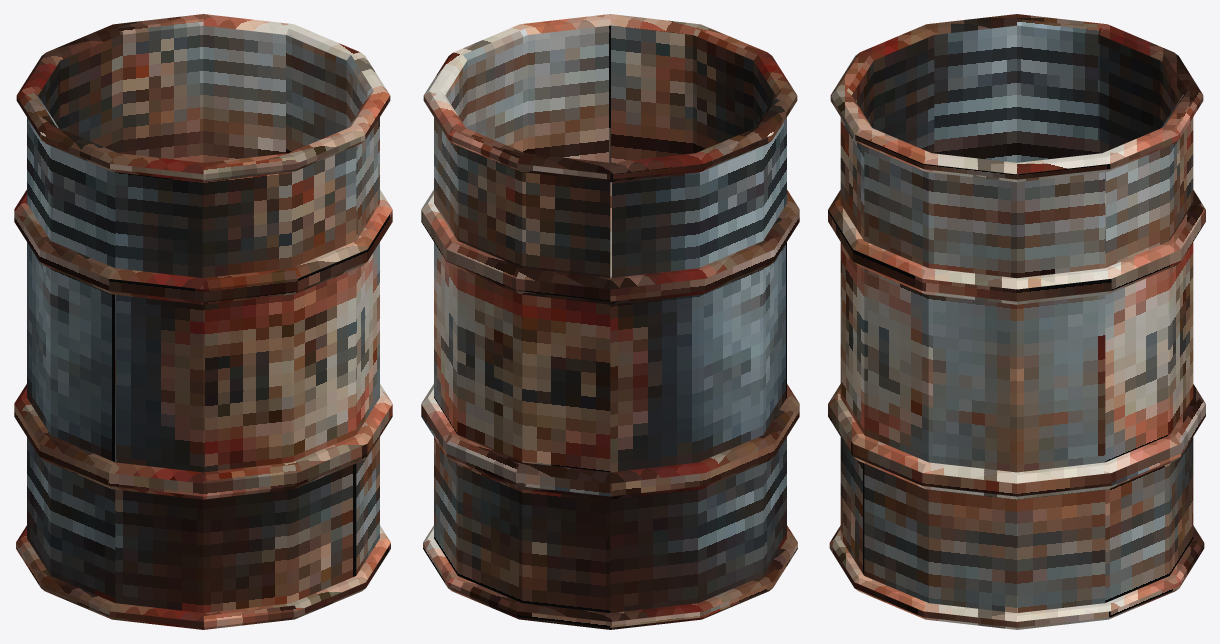
Rendered from oil_barrel.glb.
3 views of the same model, side by side, from view 1: azimuth 30°, elevation 25°; view 2: azimuth 150°, elevation 25°; view 3: azimuth 270°, elevation 25° (orthographic).
Parts seen in each view (by area): view 1: oil_barrel; view 2: oil_barrel; view 3: oil_barrel.
Boxes of the visible parts, x1,y1,x2,y2 form: oil_barrel: [14, 14, 392, 629]; oil_barrel: [421, 14, 799, 629]; oil_barrel: [828, 14, 1205, 629].
Size of the model in its own units: 2.76 by 3.72 by 2.75.
Materials: 1 (1 with a texture image).
